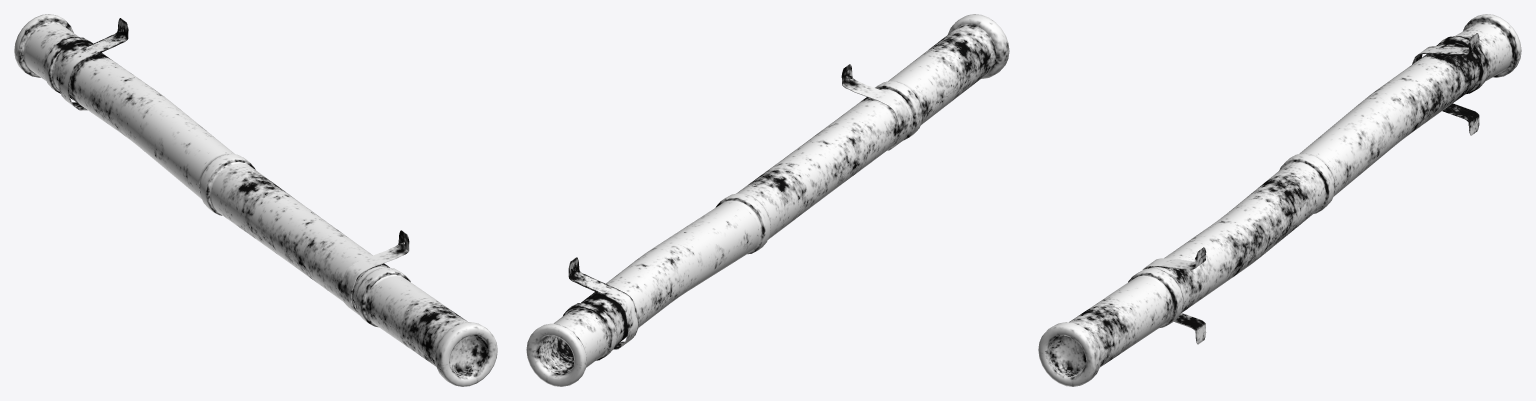
The model's file is SM_Pipe_02.fbx.
3 renders of one model, left to right at view 1: azimuth 30°, elevation 25°; view 2: azimuth 150°, elevation 25°; view 3: azimuth 330°, elevation 25°, orthographic.
Visible parts, largest first — view 1: SM_Pipe_02; view 2: SM_Pipe_02; view 3: SM_Pipe_02.
Boxes of the visible parts, <box> form: SM_Pipe_02: <box>14,14,497,386</box>; SM_Pipe_02: <box>526,14,1009,386</box>; SM_Pipe_02: <box>1038,14,1521,386</box>.
Size of the model in its own units: 25.89 by 300 by 39.92.
1 material, 1 textured.
